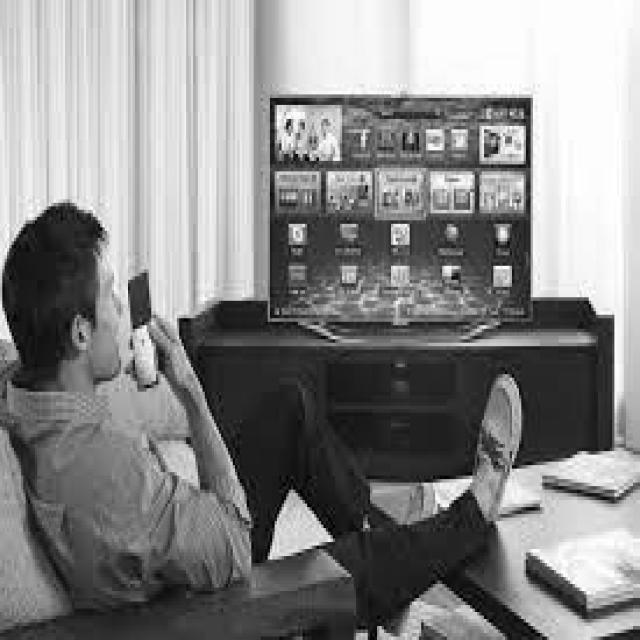No gun_phone: (128, 274, 159, 392)
